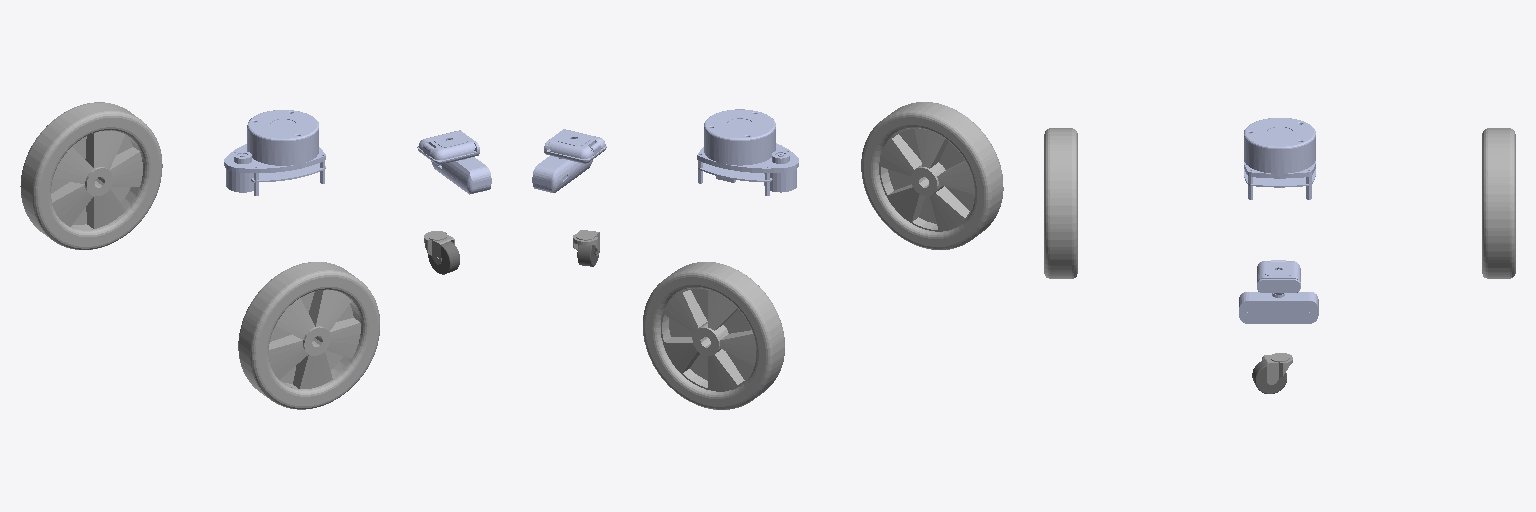
robot.urdf — mobile_robot_ver2:
<?xml version="1.0" encoding="utf-8"?>
<!-- This URDF was automatically created by SolidWorks to URDF Exporter! Originally created by [author] ([email redacted]) 
     Commit Version: 1.6.0-4-g7f85cfe  Build Version: 1.6.7995.38578
     For more information, please see http://wiki.ros.org/sw_urdf_exporter -->
<robot
  name="mobile_robot_ver2">
  <link
    name="base_link">
    <inertial>
      <origin
        xyz="-0.0199023820444629 0.00156115600269726 0.158242555790831"
        rpy="0 0 0" />
      <mass
        value="3.17925951058724" />
      <inertia
        ixx="0.0310033295090351"
        ixy="-1.68807039114303E-05"
        ixz="-0.00155350349930696"
        iyy="0.0167134173552006"
        iyz="8.21066042628579E-06"
        izz="0.0419701693390444" />
    </inertial>
    <visual>
      <origin
        xyz="0 0 0"
        rpy="0 0 0" />
      <geometry>
        <mesh
          filename="package://mobile_robot_ver2/meshes/base_link.STL" />
      </geometry>
      <material
        name="">
        <color
          rgba="0.898039215686275 0.898039215686275 0.898039215686275 1" />
      </material>
    </visual>
    <collision>
      <origin
        xyz="0 0 0"
        rpy="0 0 0" />
      <geometry>
        <mesh
          filename="package://mobile_robot_ver2/meshes/base_link.STL" />
      </geometry>
    </collision>
  </link>
  <link
    name="front_caster_Link">
    <inertial>
      <origin
        xyz="0.000635800666714023 -0.00267665579022574 -0.0106896661822148"
        rpy="0 0 0" />
      <mass
        value="0.00163932268239418" />
      <inertia
        ixx="1.54345302008237E-07"
        ixy="-3.46899157633019E-09"
        ixz="8.08393501275748E-09"
        iyy="1.68126063874187E-07"
        iyz="-3.40320742279653E-08"
        izz="1.81640677459839E-07" />
    </inertial>
    <visual>
      <origin
        xyz="0 0 0"
        rpy="0 0 0" />
      <geometry>
        <mesh
          filename="package://mobile_robot_ver2/meshes/front_caster_Link.STL" />
      </geometry>
      <material
        name="">
        <color
          rgba="0.686274509803922 0.686274509803922 0.686274509803922 1" />
      </material>
    </visual>
    <collision>
      <origin
        xyz="0 0 0"
        rpy="0 0 0" />
      <geometry>
        <mesh
          filename="package://mobile_robot_ver2/meshes/front_caster_Link.STL" />
      </geometry>
    </collision>
  </link>
  <joint
    name="front_caster_joint"
    type="continuous">
    <origin
      xyz="0.184000272086189 0 -0.00159999999999816"
      rpy="0 0 0" />
    <parent
      link="base_link" />
    <child
      link="front_caster_Link" />
    <axis
      xyz="0 0 1" />
  </joint>
  <link
    name="banh_truoc_link">
    <inertial>
      <origin
        xyz="5.55111512312578E-17 1.73472347597681E-18 -0.00700000000000001"
        rpy="0 0 0" />
      <mass
        value="0.0113625256694897" />
      <inertia
        ixx="9.06331517306512E-07"
        ixy="2.13189172538069E-22"
        ixz="2.81751557485709E-22"
        iyy="9.06331517306513E-07"
        iyz="1.32348898008487E-22"
        izz="1.43202222816787E-06" />
    </inertial>
    <visual>
      <origin
        xyz="0 0 0"
        rpy="0 0 0" />
      <geometry>
        <mesh
          filename="package://mobile_robot_ver2/meshes/banh_truoc_link.STL" />
      </geometry>
      <material
        name="">
        <color
          rgba="0.498039215686275 0.498039215686275 0.498039215686275 1" />
      </material>
    </visual>
    <collision>
      <origin
        xyz="0 0 0"
        rpy="0 0 0" />
      <geometry>
        <mesh
          filename="package://mobile_robot_ver2/meshes/banh_truoc_link.STL" />
      </geometry>
    </collision>
  </link>
  <joint
    name="banh_truoc_joint"
    type="continuous">
    <origin
      xyz="0.00912155617943253 -0.00811154811768118 -0.0244000000000002"
      rpy="0.233213827586195 -1.57079631189374 -3.14159265358979" />
    <parent
      link="front_caster_Link" />
    <child
      link="banh_truoc_link" />
    <axis
      xyz="0 0 1" />
  </joint>
  <link
    name="left_back_wheel">
    <inertial>
      <origin
        xyz="6.93889390390723E-16 -0.0163978831672308 -2.77555756156289E-17"
        rpy="0 0 0" />
      <mass
        value="0.335246550060458" />
      <inertia
        ixx="0.000556427367899459"
        ixy="-9.7446282608757E-19"
        ixz="6.26717266613632E-20"
        iyy="0.00106371956621461"
        iyz="-8.70165748530884E-19"
        izz="0.000556427367899459" />
    </inertial>
    <visual>
      <origin
        xyz="0 0 0"
        rpy="0 0 0" />
      <geometry>
        <mesh
          filename="package://mobile_robot_ver2/meshes/left_back_wheel.STL" />
      </geometry>
      <material
        name="">
        <color
          rgba="0.745098039215686 0.745098039215686 0.745098039215686 1" />
      </material>
    </visual>
    <collision>
      <origin
        xyz="0 0 0"
        rpy="0 0 0" />
      <geometry>
        <mesh
          filename="package://mobile_robot_ver2/meshes/left_back_wheel.STL" />
      </geometry>
    </collision>
  </link>
  <joint
    name="left_back_wheel_joint"
    type="continuous">
    <origin
      xyz="-0.0810260851278778 0.22731050315573 0.0334999999999994"
      rpy="0 0 0" />
    <parent
      link="base_link" />
    <child
      link="left_back_wheel" />
    <axis
      xyz="0 1 0" />
  </joint>
  <link
    name="right_back_wheel">
    <inertial>
      <origin
        xyz="-2.80331313717852E-15 0.0156021168327677 -4.71844785465692E-16"
        rpy="0 0 0" />
      <mass
        value="0.335246550060458" />
      <inertia
        ixx="0.000556427367899459"
        ixy="-8.97866418891642E-19"
        ixz="-1.81471568410149E-20"
        iyy="0.00106371956621461"
        iyz="-8.62711709971281E-19"
        izz="0.00055642736789946" />
    </inertial>
    <visual>
      <origin
        xyz="0 0 0"
        rpy="0 0 0" />
      <geometry>
        <mesh
          filename="package://mobile_robot_ver2/meshes/right_back_wheel.STL" />
      </geometry>
      <material
        name="">
        <color
          rgba="0.745098039215686 0.745098039215686 0.745098039215686 1" />
      </material>
    </visual>
    <collision>
      <origin
        xyz="0 0 0"
        rpy="0 0 0" />
      <geometry>
        <mesh
          filename="package://mobile_robot_ver2/meshes/right_back_wheel.STL" />
      </geometry>
    </collision>
  </link>
  <joint
    name="right_back_wheel_joint"
    type="continuous">
    <origin
      xyz="-0.0810260851278751 -0.227090307580373 0.0334999999999964"
      rpy="0 0 0" />
    <parent
      link="base_link" />
    <child
      link="right_back_wheel" />
    <axis
      xyz="0 1 0" />
  </joint>


  <!--######################################################################-->
  <gazebo>
      <plugin name="diff_drive_controller" filename="libgazebo_ros_diff_drive.so">
        <legacyMode>false</legacyMode>
        <alwaysOn>true</alwaysOn>
        <updateRate>40</updateRate>
        <leftJoint>left_back_wheel_joint</leftJoint>
        <rightJoint>right_back_wheel_joint</rightJoint>
        <wheelSeparation>0.454</wheelSeparation>
        <wheelDiameter>0.145</wheelDiameter>
        <wheelTorque>10</wheelTorque>
        <publishTf>1</publishTf>
        <odometryFrame>odom</odometryFrame>
        <commandTopic>/cmd_vel</commandTopic>
        <odometryTopic>/odom</odometryTopic>
        <robotBaseFrame>base_link</robotBaseFrame>
        <wheelAcceleration>2.8</wheelAcceleration>
        <publishWheelJointState>true</publishWheelJointState>
        <publishWheelTF>false</publishWheelTF>
        <odometrySource>world</odometrySource>
        <rosDebugLevel>name</rosDebugLevel>
        <publishOdomTF>true</publishOdomTF> 
      </plugin>
  </gazebo>
 

  


  <link
    name="lidar_link">
    <inertial>
      <origin
        xyz="-0.00676806015122414 9.18826098207821E-05 -0.0219029751317191"
        rpy="0 0 0" />
      <mass
        value="0.170369096773262" />
      <inertia
        ixx="7.85144528233466E-05"
        ixy="-1.02594699797548E-07"
        ixz="-2.02793883969738E-05"
        iyy="0.000122718368622727"
        iyz="3.97473689157688E-07"
        izz="0.000140428163899051" />
    </inertial>
    <visual>
      <origin
        xyz="0 0 0"
        rpy="0 0 0" />
      <geometry>
        <mesh
          filename="package://mobile_robot_ver2/meshes/lidar_link.STL" />
      </geometry>
      <material
        name="">
        <color
          rgba="0.792156862745098 0.819607843137255 0.933333333333333 1" />
      </material>
    </visual>
    <collision>
      <origin
        xyz="0 0 0"
        rpy="0 0 0" />
      <geometry>
        <mesh
          filename="package://mobile_robot_ver2/meshes/lidar_link.STL" />
      </geometry>
    </collision>
  </link>
  <joint
    name="lidar_joint"
    type="fixed">
    <origin
      xyz="0.011811202904181 0 0.152200000000001"
      rpy="0 0 0" />
    <parent
      link="base_link" />
    <child
      link="lidar_link" />
    <axis
      xyz="0 0 0" />
  </joint>

  <!-- hokuyo -->
  <gazebo reference="lidar_link">
    <sensor type="ray" name="head_hokuyo_sensor">
      <pose>0 0 0 0 0 0</pose>
      <visualize>true</visualize>
      <update_rate>100</update_rate>
      <ray>
        <scan>
          <horizontal>
            <samples>640</samples>
            <resolution>1</resolution>
            <min_angle>-3.141592</min_angle>
            <max_angle>3.141592</max_angle>
          </horizontal>
        </scan>
        <range>
          <min>0.25</min>
          <max>12.0</max>
          <resolution>0.01</resolution>
        </range>
        <noise>
          <type>gaussian</type>
          <!--Noise parameters based on published spec for Hokuyo laser
               achieving "+-30mm" accuracy at range < 10m.  A mean of 0.0m and
               stddev of 0.01m will put 99.7% of samples within 0.03m of the true
               reading. --> 
          <mean>0.0</mean>
          <stddev>0.01</stddev>
        </noise>
      </ray>
      <plugin 
      name="gazebo_ros_head_hokuyo_controller" filename="libgazebo_ros_laser.so">
         <always_on>1</always_on>
        <update_rate>30</update_rate>
        <visualize>true</visualize>
        <topicName>/scan</topicName>
        <frameName>lidar_link</frameName>
      </plugin>
    </sensor>
  </gazebo> 


  <link
    name="webcam_link">
    <inertial>
      <origin
        xyz="-0.0155157202003091 -0.000126424529679616 0.0115424869626972"
        rpy="0 0 0" />
      <mass
        value="0.0358924440181195" />
      <inertia
        ixx="1.28699258264271E-05"
        ixy="-4.66206664437663E-09"
        ixz="-7.71903259095074E-10"
        iyy="4.4907173594424E-06"
        iyz="-1.0273068440479E-08"
        izz="1.45272625129289E-05" />
    </inertial>
    <visual>
      <origin
        xyz="0 0 0"
        rpy="0 0 0" />
      <geometry>
        <mesh
          filename="package://mobile_robot_ver2/meshes/webcam_link.STL" />
      </geometry>
      <material
        name="">
        <color
          rgba="0.792156862745098 0.819607843137255 0.933333333333333 1" />
      </material>
    </visual>
    <collision>
      <origin
        xyz="0 0 0"
        rpy="0 0 0" />
      <geometry>
        <mesh
          filename="package://mobile_robot_ver2/meshes/webcam_link.STL" />
      </geometry>
    </collision>
  </link>
  <joint
    name="webcam_joint"
    type="prismatic">
    <origin
      xyz="0.21999 -0.0011426 0.0589"
      rpy="0 0 0" />
    <parent
      link="base_link" />
    <child
      link="webcam_link" />
    <axis
      xyz="0 1 0" />
    <limit
      lower="0"
      upper="0"
      effort="0"
      velocity="0" />
  </joint>

  <!-- camera -->
  <gazebo reference="webcam_link">
    <sensor type="camera" name="camera1">
      <update_rate>30.0</update_rate>
      <camera name="head">
        <horizontal_fov>1.3962634</horizontal_fov>
        <image>
          <width>800</width>
          <height>800</height>
          <format>R8G8B8</format>
        </image>
        <clip>
          <near>0.02</near>
          <far>300</far>
        </clip>
        <noise>
          <type>gaussian</type>
          <!-- Noise is sampled independently per pixel on each frame.
               That pixel's noise value is added to each of its color
               channels, which at that point lie in the range [0,1]. -->
          <mean>0.0</mean>
          <stddev>0.007</stddev>
        </noise>
      </camera>
      <plugin name="camera_controller" filename="libgazebo_ros_camera.so">
        <alwaysOn>true</alwaysOn>
        <updateRate>0.0</updateRate>
        <cameraName>rrbot/camera1</cameraName>
        <imageTopicName>image_raw</imageTopicName>
        <cameraInfoTopicName>camera_info</cameraInfoTopicName>
        <frameName>webcam_link</frameName>
        <hackBaseline>0.07</hackBaseline>
        <distortionK1>0.0</distortionK1>
        <distortionK2>0.0</distortionK2>
        <distortionK3>0.0</distortionK3>
        <distortionT1>0.0</distortionT1>
        <distortionT2>0.0</distortionT2>
      </plugin>
    </sensor>
  </gazebo>



</robot>

--- Render facts (derived) ---
3 views of the same robot in one strip: view 1: azimuth 30°, elevation 25°; view 2: azimuth 150°, elevation 25°; view 3: azimuth 270°, elevation 25° (orthographic).
Robot: mobile_robot_ver2 — 7 links, 6 joints (4 continuous, 1 prismatic, 1 fixed); root link base_link; default pose: every joint at zero.
Links seen in each view (by area): view 1: right_back_wheel, left_back_wheel, lidar_link, webcam_link, banh_truoc_link, front_caster_Link; view 2: right_back_wheel, left_back_wheel, lidar_link, webcam_link; view 3: right_back_wheel, left_back_wheel, lidar_link, webcam_link, front_caster_Link, banh_truoc_link.
Link boxes in pixels (x1=…): right_back_wheel: x1=238, y1=262, x2=379, y2=409; left_back_wheel: x1=20, y1=102, x2=162, y2=249; lidar_link: x1=224, y1=110, x2=325, y2=195; webcam_link: x1=417, y1=130, x2=491, y2=194; banh_truoc_link: x1=428, y1=241, x2=459, y2=274; front_caster_Link: x1=424, y1=231, x2=454, y2=264; right_back_wheel: x1=861, y1=102, x2=1003, y2=249; left_back_wheel: x1=643, y1=262, x2=784, y2=409; lidar_link: x1=697, y1=109, x2=798, y2=195; webcam_link: x1=532, y1=129, x2=606, y2=192; right_back_wheel: x1=1044, y1=128, x2=1077, y2=278; left_back_wheel: x1=1482, y1=128, x2=1515, y2=278; lidar_link: x1=1244, y1=118, x2=1315, y2=199; webcam_link: x1=1239, y1=260, x2=1318, y2=323; front_caster_Link: x1=1262, y1=353, x2=1292, y2=384; banh_truoc_link: x1=1252, y1=360, x2=1286, y2=393.
Size in the robot's own frame: 0.3755 by 0.4544 by 0.1947 metres.
6 mesh visuals loaded from 7 distinct referenced files (6 binary STL); not drawn: 1 (reference not matched to a file when rendering).
